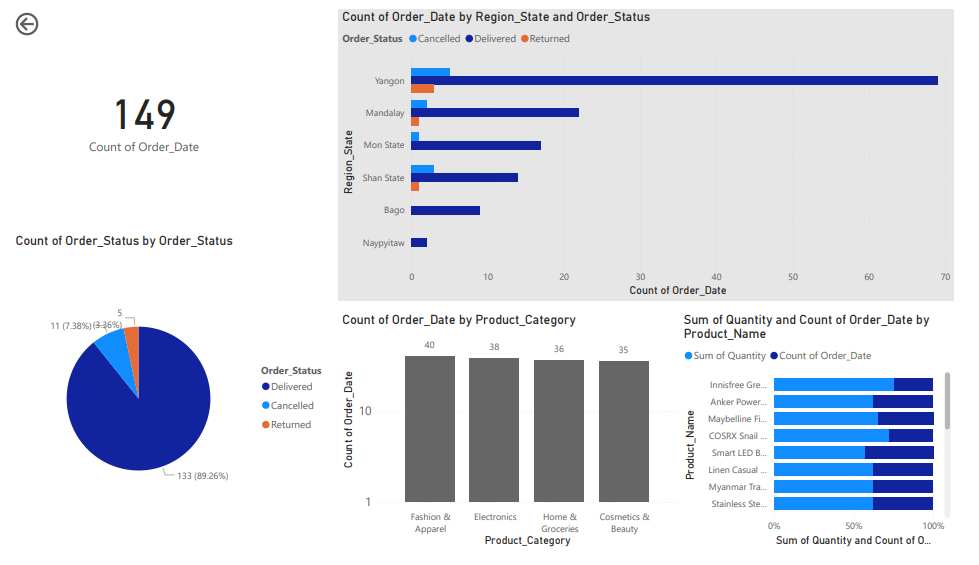

This screenshot's page, from the dashboard's own definition file:
{"tool":"powerbi","page":{"name":"Page 2","canvas":[1280,720],"ordinal":1},"visuals":[{"type":"card","fields":{"Values":["CountNonNull(Raw_Sales_Data.Order_Date)"]},"box":[0,0,351.7,288.3],"z":0},{"type":"pieChart","fields":{"Y":["CountNonNull(Raw_Sales_Data.Order_Status)"],"Category":["Raw_Sales_Data.Order_Status"]},"box":[0,298.3,435,421.7],"z":1000},{"type":"clusteredBarChart","fields":{"Category":["Raw_Sales_Data.Region_State"],"Series":["Raw_Sales_Data.Order_Status"],"Y":["CountNonNull(Raw_Sales_Data.Order_Date)"]},"box":[435,0,820,388.3],"z":2000},{"type":"actionButton","box":[0,0,100,40],"z":3000},{"type":"lineStackedColumnComboChart","fields":{"Category":["Raw_Sales_Data.Product_Category"],"Y":["CountNonNull(Raw_Sales_Data.Order_Date)"]},"box":[435,403.3,455,316.7],"z":4000},{"type":"hundredPercentStackedBarChart","fields":{"Category":["Raw_Sales_Data.Product_Name"],"Y":["Sum(Raw_Sales_Data.Quantity)","CountNonNull(Raw_Sales_Data.Order_Date)"]},"box":[890,403,365,317],"z":4001}]}

Visuals, with their boxes in screenshot pixels (x1, y1, x2, y2), scaled from the page's 1280x720 canvas onto the 979x565 screenshot:
card - CountNonNull(Raw_Sales_Data.Order_Date): Rect(0, 0, 269, 226)
pieChart - CountNonNull(Raw_Sales_Data.Order_Status) x Raw_Sales_Data.Order_Status: Rect(0, 234, 333, 564)
clusteredBarChart - Raw_Sales_Data.Region_State x Raw_Sales_Data.Order_Status: Rect(333, 0, 960, 305)
actionButton: Rect(0, 0, 76, 31)
lineStackedColumnComboChart - Raw_Sales_Data.Product_Category x CountNonNull(Raw_Sales_Data.Order_Date): Rect(333, 316, 681, 564)
hundredPercentStackedBarChart - Raw_Sales_Data.Product_Name x Sum(Raw_Sales_Data.Quantity): Rect(681, 316, 960, 564)
